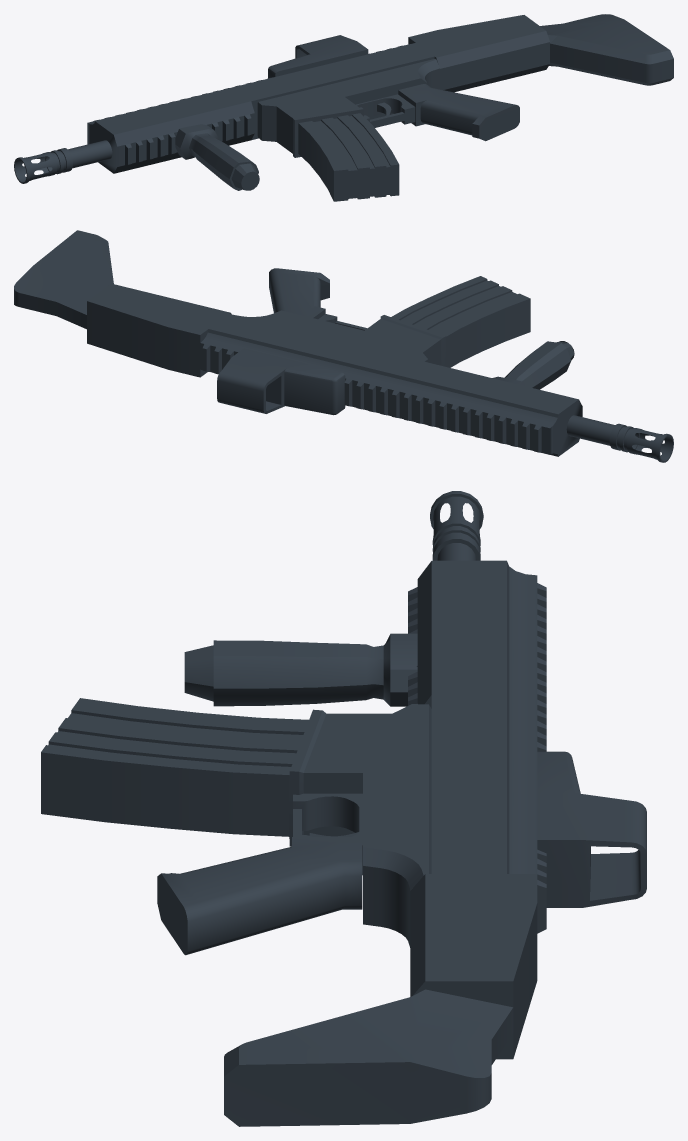
The model's file is Gun_Skylight.fbx.
3 views of the same model, one above another, from view 1: azimuth 30°, elevation 25°; view 2: azimuth 150°, elevation 25°; view 3: azimuth 270°, elevation 25° (orthographic). The views are drawn at different scales.
Parts seen in each view (by area): view 1: MG1; view 2: MG1; view 3: MG1.
Boxes of the visible parts, x1=… form: MG1: x1=14, y1=14, x2=673, y2=201; MG1: x1=14, y1=230, x2=673, y2=462; MG1: x1=41, y1=491, x2=646, y2=1126.
Size of the model in its own units: 378 by 23.7 by 167.
